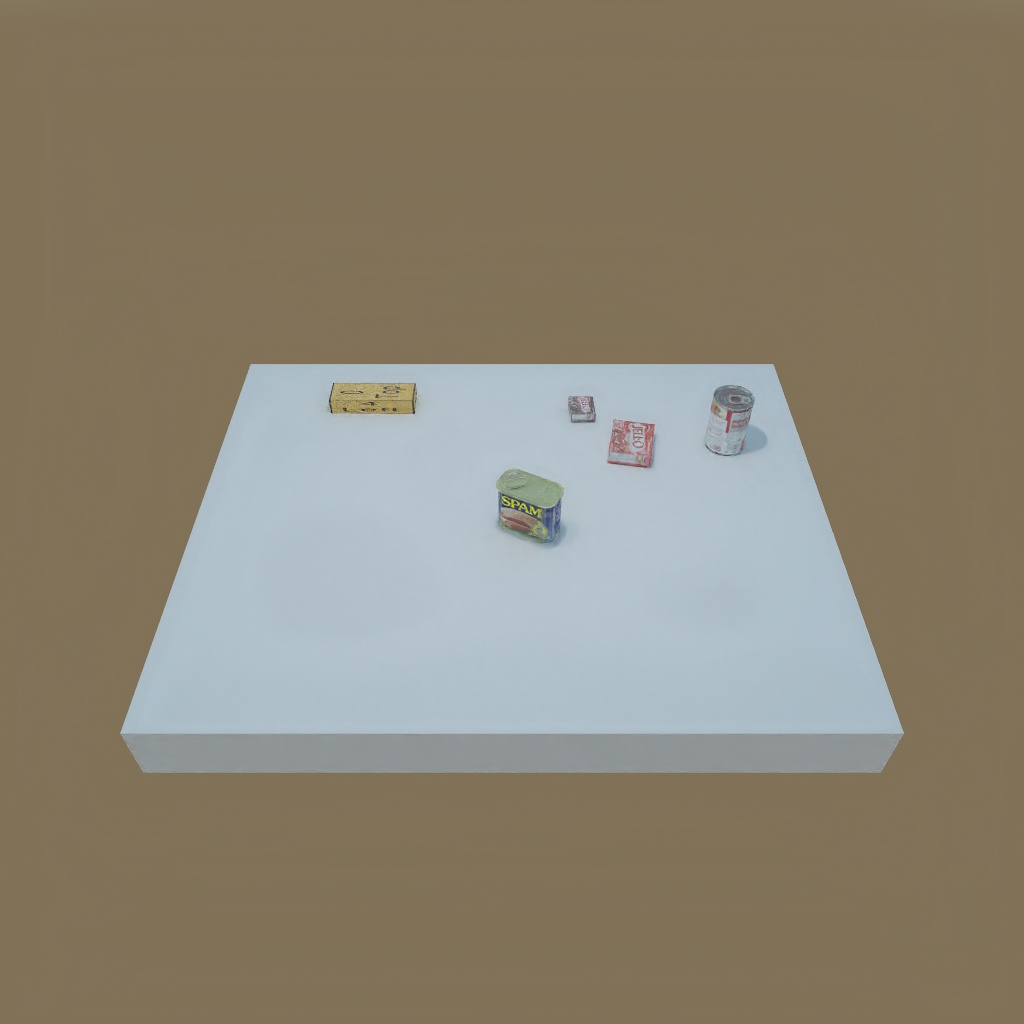gelatin_box: (607, 417, 658, 471)
jenga: (325, 377, 421, 418)
potted_meat_can: (493, 467, 564, 545)
pudding_box: (563, 388, 599, 428)
tomato_soup_can: (702, 380, 758, 457)
